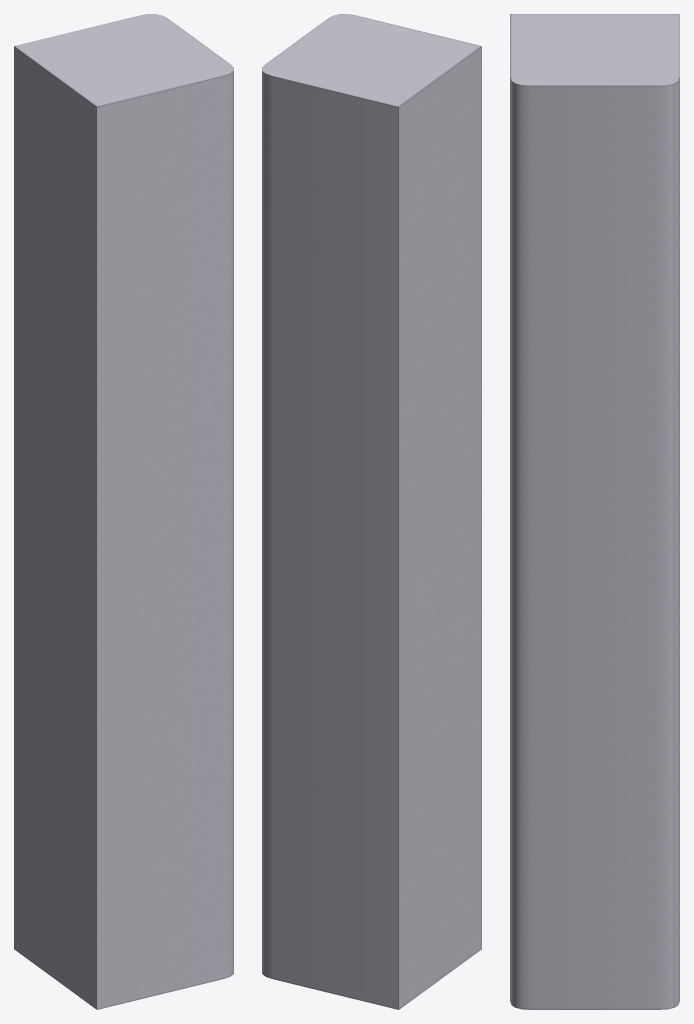
Rendered from Pilar_Normal_02.FBX.
The picture shows the model from 3 angles, left to right: view 1: azimuth 30°, elevation 25°; view 2: azimuth 150°, elevation 25°; view 3: azimuth 270°, elevation 25°; orthographic projection. The views are drawn at different scales.
Parts seen in each view (by area): view 1: Pilar_Normal_02; view 2: Pilar_Normal_02; view 3: Pilar_Normal_02.
Boxes of the visible parts, left/top/right/bottom form: Pilar_Normal_02: left=14, top=14, right=233, bottom=1009; Pilar_Normal_02: left=262, top=14, right=481, bottom=1009; Pilar_Normal_02: left=510, top=14, right=679, bottom=1009.
Size of the model in its own units: 2 by 12 by 2.
